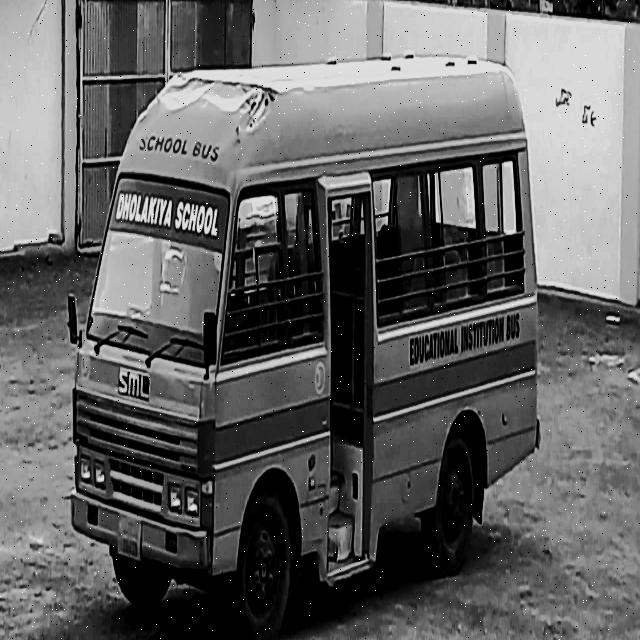Bus: (61, 42, 560, 621)
